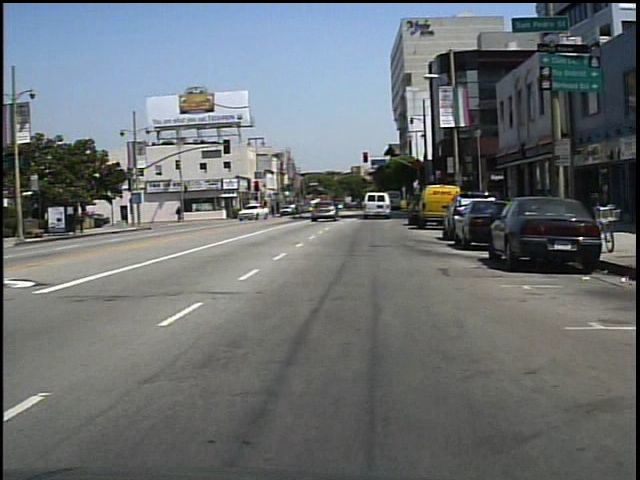person: (294, 195, 307, 224), (178, 204, 184, 224)
